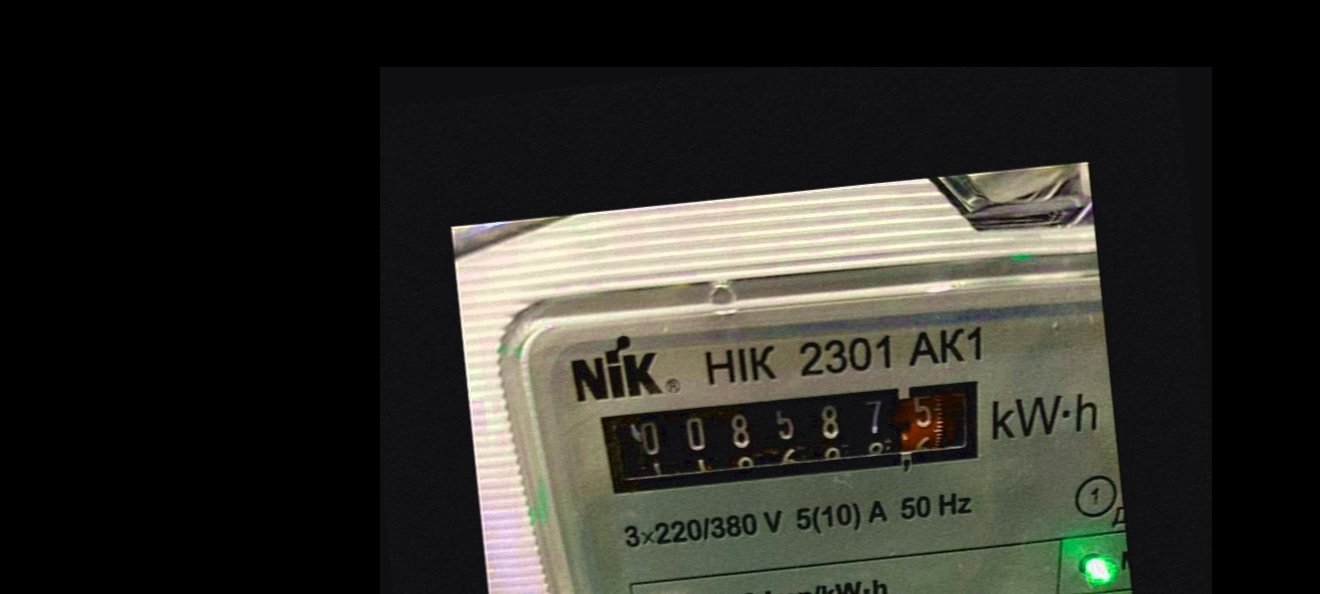0: (684, 414, 712, 456)
1: (638, 419, 666, 462)
5: (912, 392, 940, 434), (774, 406, 801, 446)
7: (863, 398, 890, 441)
8: (728, 411, 757, 455), (819, 402, 844, 445)
screen: (581, 359, 1009, 520)
